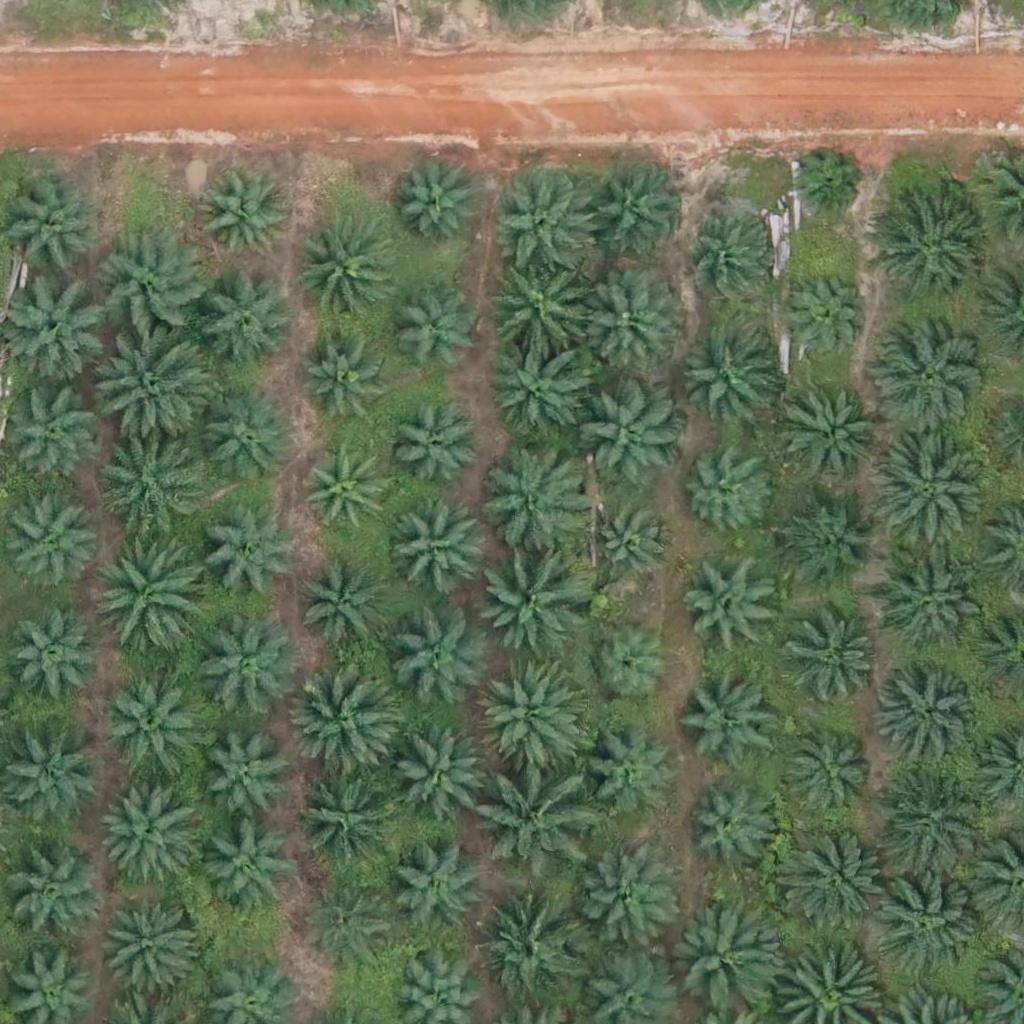Kelapa_Sawit: (776, 820, 889, 934), (868, 439, 981, 553), (870, 868, 983, 982), (92, 536, 205, 649), (90, 236, 203, 349), (288, 660, 401, 773), (487, 169, 600, 282), (476, 546, 589, 659), (473, 659, 586, 772), (868, 322, 981, 435), (873, 762, 986, 875), (93, 333, 205, 447), (94, 429, 206, 543), (480, 769, 592, 883), (99, 669, 211, 782), (470, 443, 582, 556), (871, 189, 983, 302), (4, 174, 104, 275), (98, 899, 198, 1000), (96, 779, 196, 880), (197, 382, 297, 483), (193, 614, 293, 715), (196, 815, 296, 916), (298, 870, 398, 971), (294, 220, 394, 321), (300, 773, 400, 874), (385, 500, 485, 601), (390, 609, 490, 710), (394, 726, 494, 827), (387, 838, 487, 939), (491, 267, 591, 368), (491, 337, 591, 438), (478, 902, 578, 1003), (573, 850, 673, 951), (579, 272, 679, 373), (580, 164, 680, 265), (666, 901, 766, 1002), (779, 380, 879, 481), (877, 559, 977, 660), (879, 668, 979, 769), (6, 729, 106, 829), (2, 842, 102, 942), (196, 275, 296, 375), (582, 382, 682, 482), (677, 330, 777, 430), (680, 547, 780, 647), (678, 663, 778, 763), (776, 719, 876, 819), (783, 606, 883, 706), (782, 498, 882, 598), (298, 451, 386, 540), (784, 273, 872, 362), (11, 502, 99, 590), (198, 177, 286, 265), (204, 738, 292, 826), (302, 345, 390, 433), (391, 289, 479, 377), (585, 626, 673, 714), (589, 502, 677, 590), (678, 447, 766, 535), (389, 162, 476, 251), (583, 731, 670, 820), (10, 608, 97, 696), (203, 513, 290, 601), (296, 567, 383, 655), (390, 405, 477, 493), (685, 220, 772, 308), (686, 780, 773, 868), (791, 147, 866, 222)
